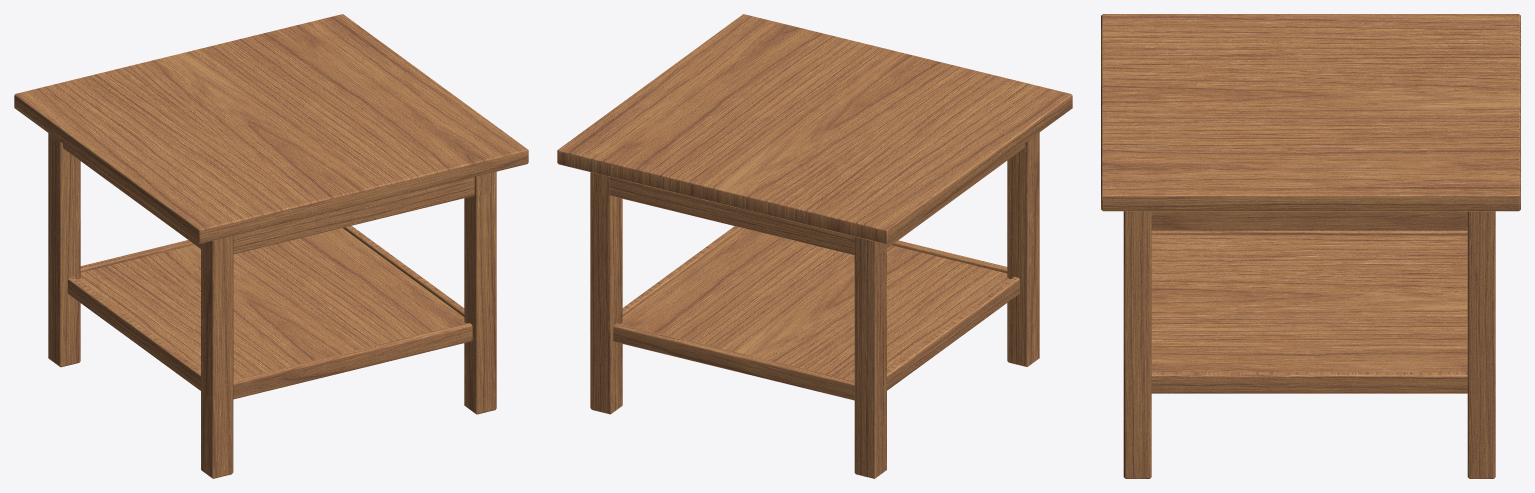
Rendered from SM_table_03.fbx.
3 views of the same model, side by side, from view 1: azimuth 30°, elevation 25°; view 2: azimuth 150°, elevation 25°; view 3: azimuth 270°, elevation 25° (orthographic). The views are drawn at different scales.
Parts seen in each view (by area): view 1: table01; view 2: table01; view 3: table01.
Boxes of the visible parts, bbox=[...] form: table01: bbox=[14, 14, 528, 478]; table01: bbox=[557, 14, 1072, 478]; table01: bbox=[1101, 14, 1520, 478].
Size of the model in its own units: 33.38 by 25.42 by 32.58.
Materials: 1 (1 with a texture image).
